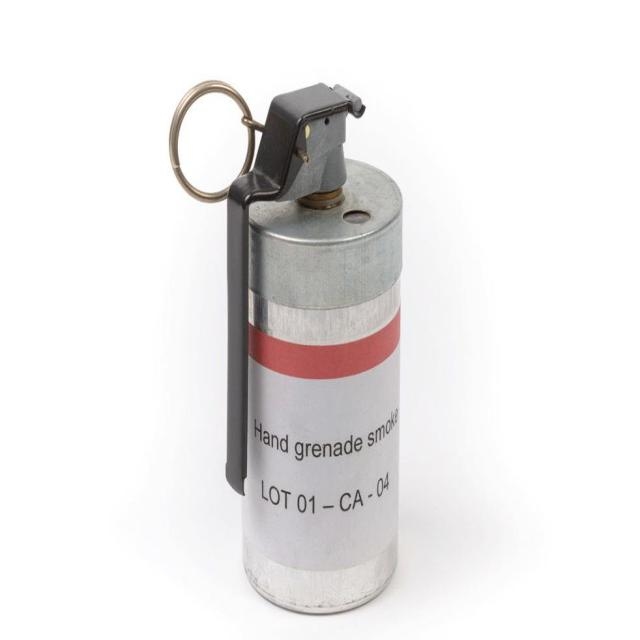grenade: (169, 79, 404, 617)
